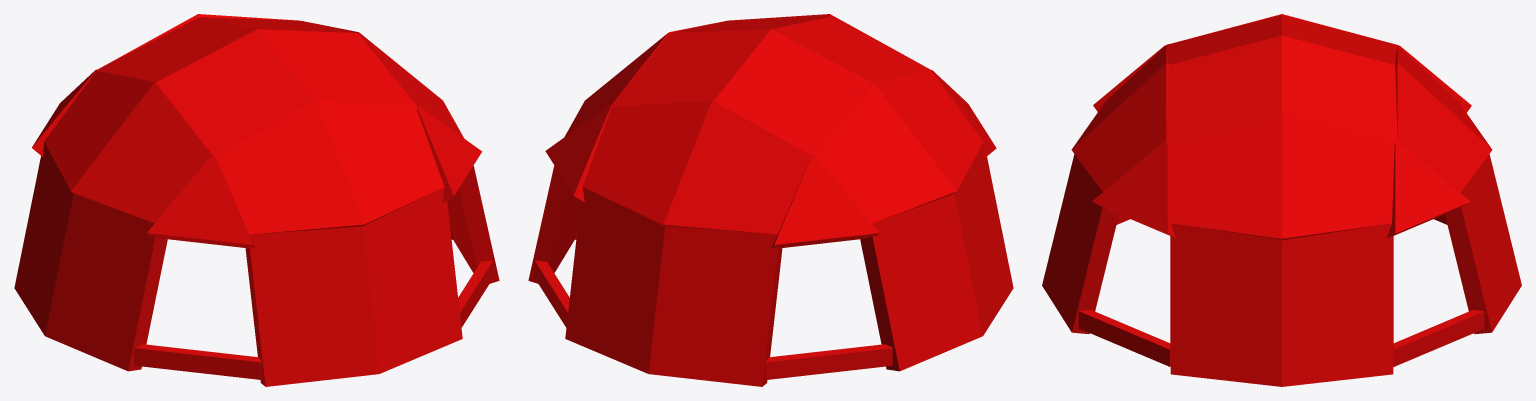
The model's file is SM_Bld_Quarantine_DomeTent_01_Collision.fbx.
3 renders of one model, left to right at view 1: azimuth 30°, elevation 25°; view 2: azimuth 150°, elevation 25°; view 3: azimuth 270°, elevation 25°, orthographic. The views are drawn at different scales.
Parts seen in each view (by area): view 1: SM_Bld_Quarantine_DomeTent_01_Collision; view 2: SM_Bld_Quarantine_DomeTent_01_Collision; view 3: SM_Bld_Quarantine_DomeTent_01_Collision.
Part boxes in pixels (x1,y1,x2,y2): SM_Bld_Quarantine_DomeTent_01_Collision: (14,14,499,386); SM_Bld_Quarantine_DomeTent_01_Collision: (528,14,1013,386); SM_Bld_Quarantine_DomeTent_01_Collision: (1042,14,1521,386).
Size of the model in its own units: 621 by 362 by 621.
